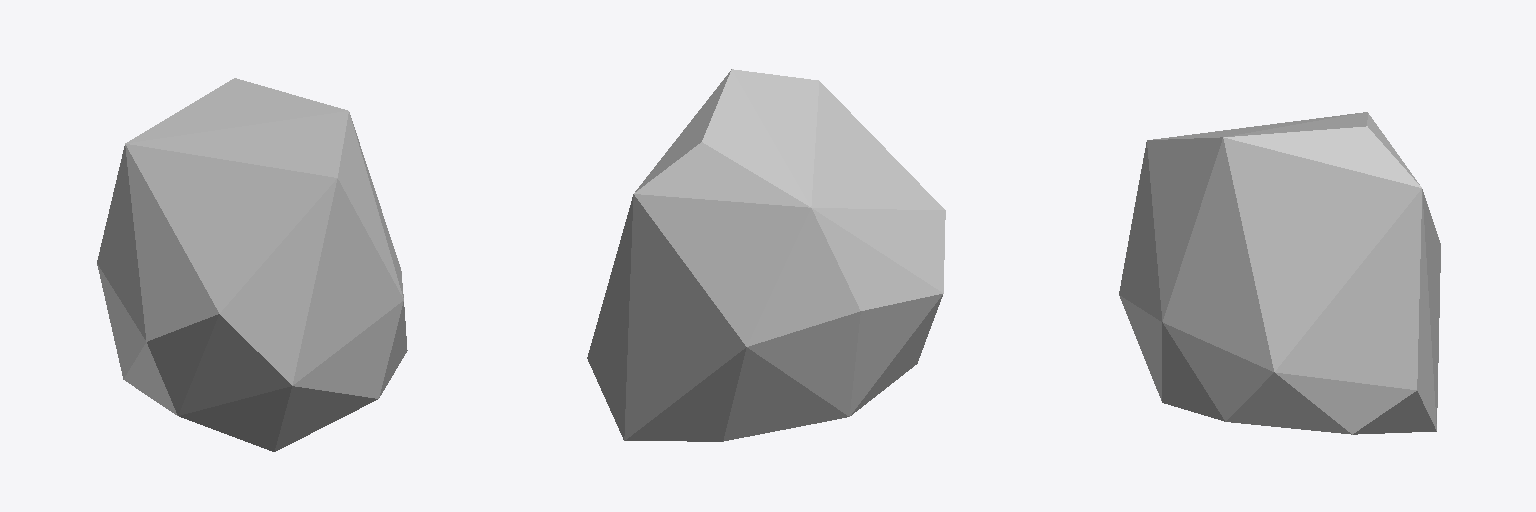
Rendered from stone.obj.
The picture shows the model from 3 angles: view 1: azimuth 30°, elevation 25°; view 2: azimuth 150°, elevation 25°; view 3: azimuth 270°, elevation 25°; orthographic projection.
Parts seen in each view (by area): view 1: Stone_Cube.001; view 2: Stone_Cube.001; view 3: Stone_Cube.001.
Part boxes in pixels (bbox=[...]): Stone_Cube.001: bbox=[97, 78, 407, 451]; Stone_Cube.001: bbox=[587, 69, 945, 441]; Stone_Cube.001: bbox=[1119, 112, 1440, 434].
Size of the model in its own units: 1.02 by 1.02 by 0.9952.